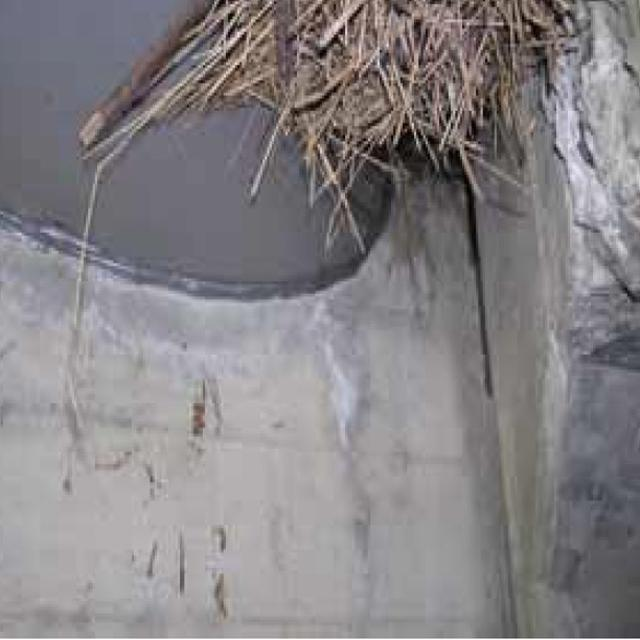freelime: (314, 294, 370, 446)
